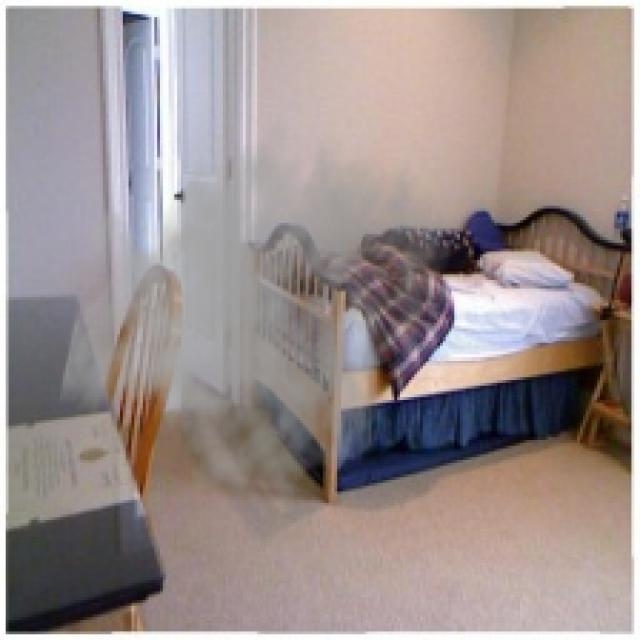smoke: (57, 97, 454, 514)
